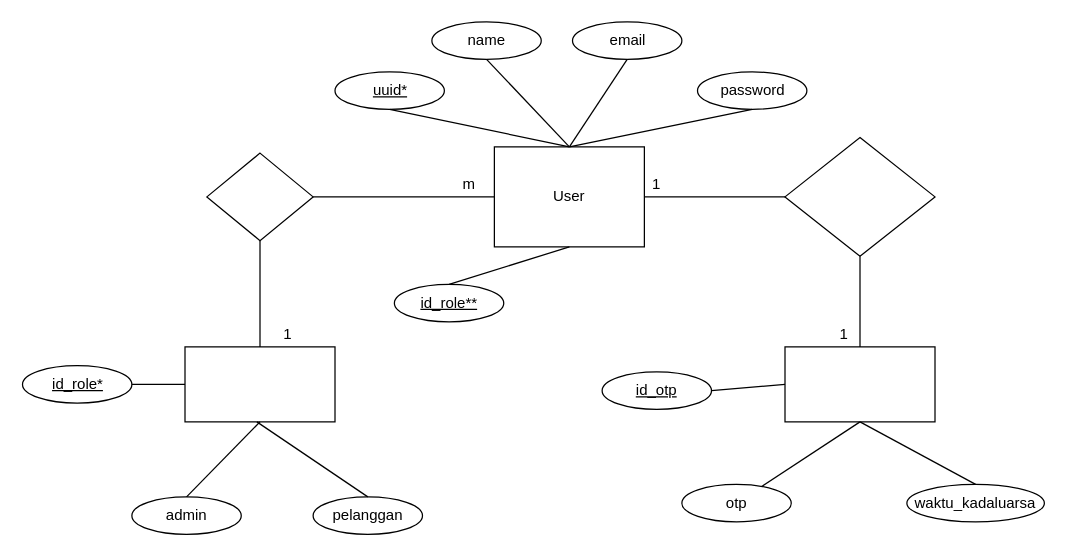
The diagram is 1066 pixels wide and 556 high, and some of its shapes have lost their labels. Here are the shapes that lost their labels. From the top down, the centre of each, then its label:
At pixel 259 196: "Menjadi role".
At pixel 859 196: "memberi kode otp".
At pixel 259 384: "Role".
At pixel 859 384: "otp_code".
